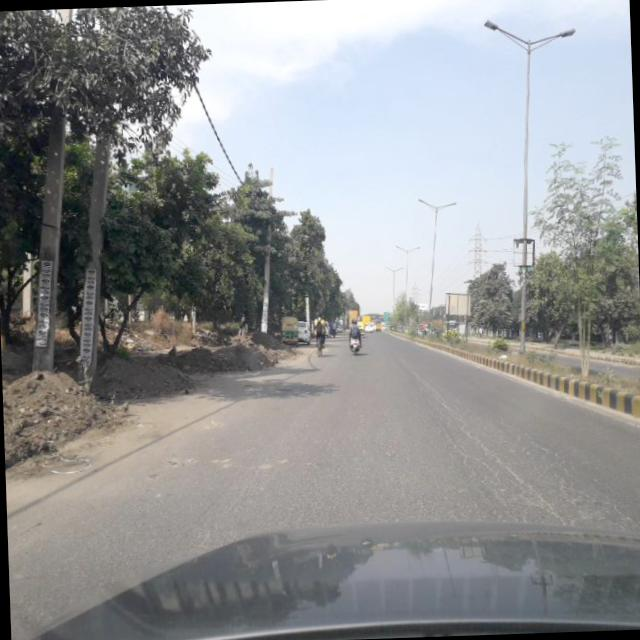crack: (430, 396, 616, 528)
pothole: (464, 428, 556, 520), (402, 358, 464, 434)
